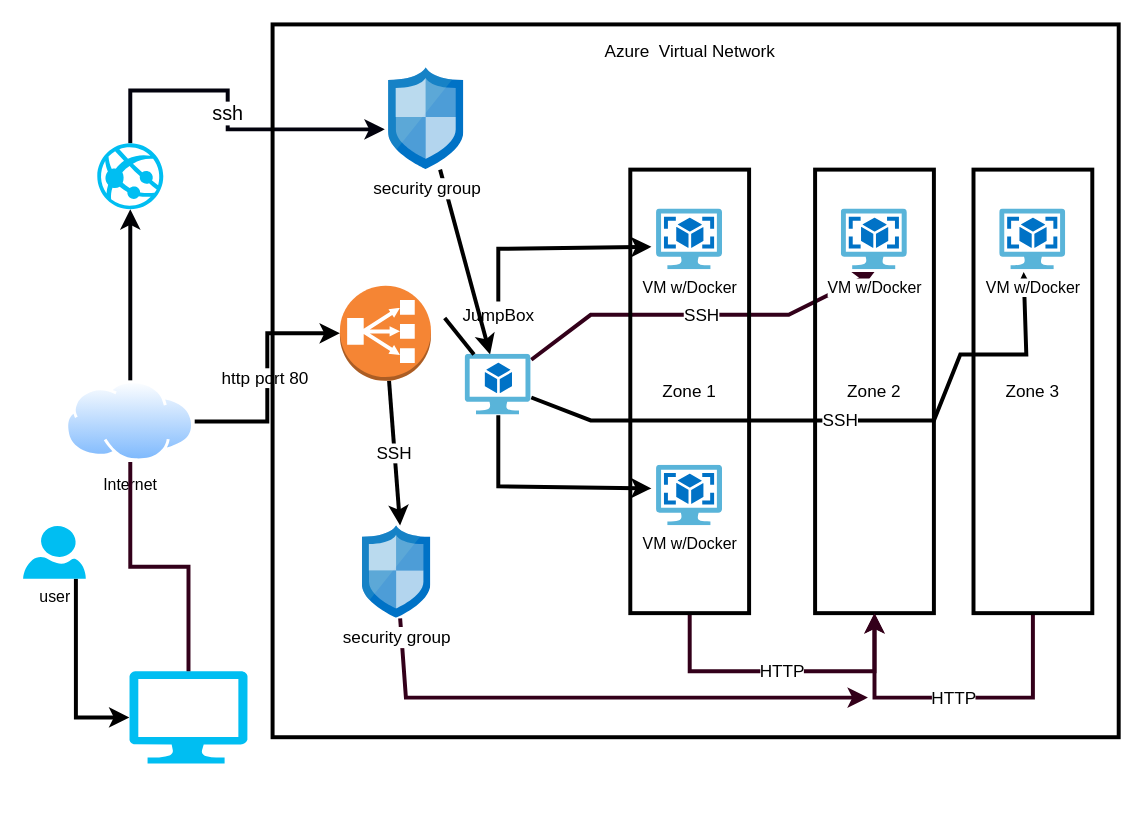
The diagram is 1143 pixels wide and 814 high, and some of its shapes have lost their labels. Here are the shapes that lost their labels. From the top down, the centre of each, then its label:
At [130,176]: "Azure Website".
At [385,332]: "Load Balancer".
At [498,384]: "VM w/Ansible".
At [188,717]: "local computer".
